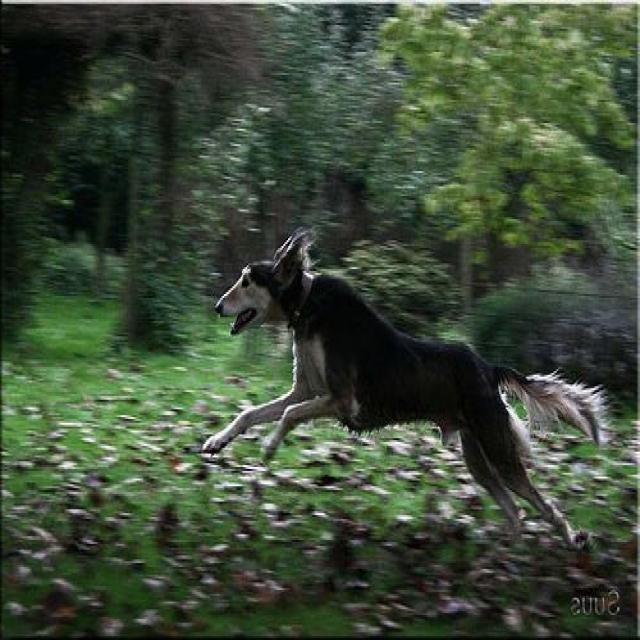saluki: (204, 223, 614, 553)
